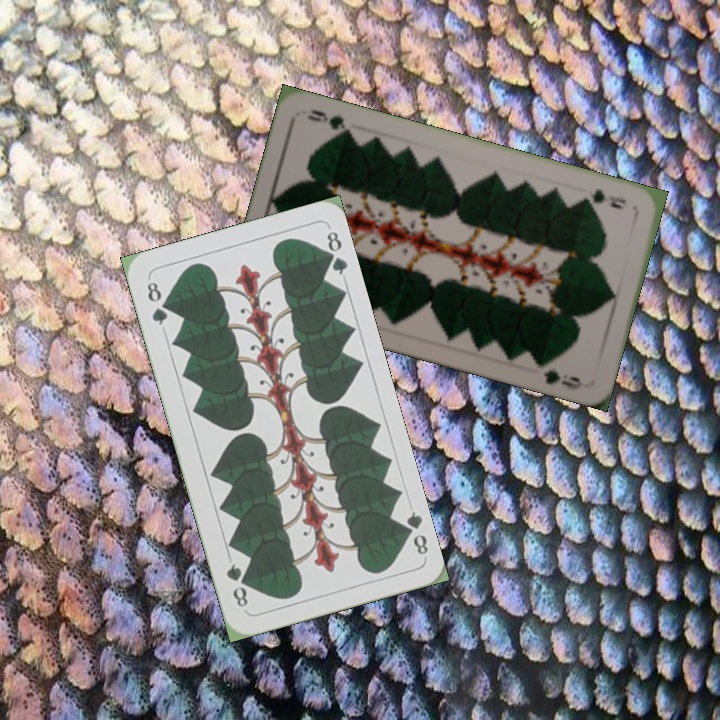G8: (396, 507, 431, 558), (143, 277, 171, 328)
G9: (577, 185, 629, 212)
